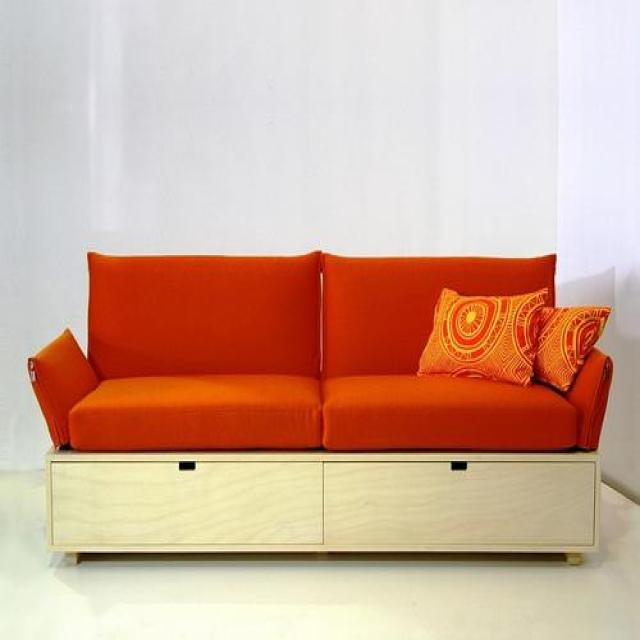sofa: (26, 249, 615, 571)
